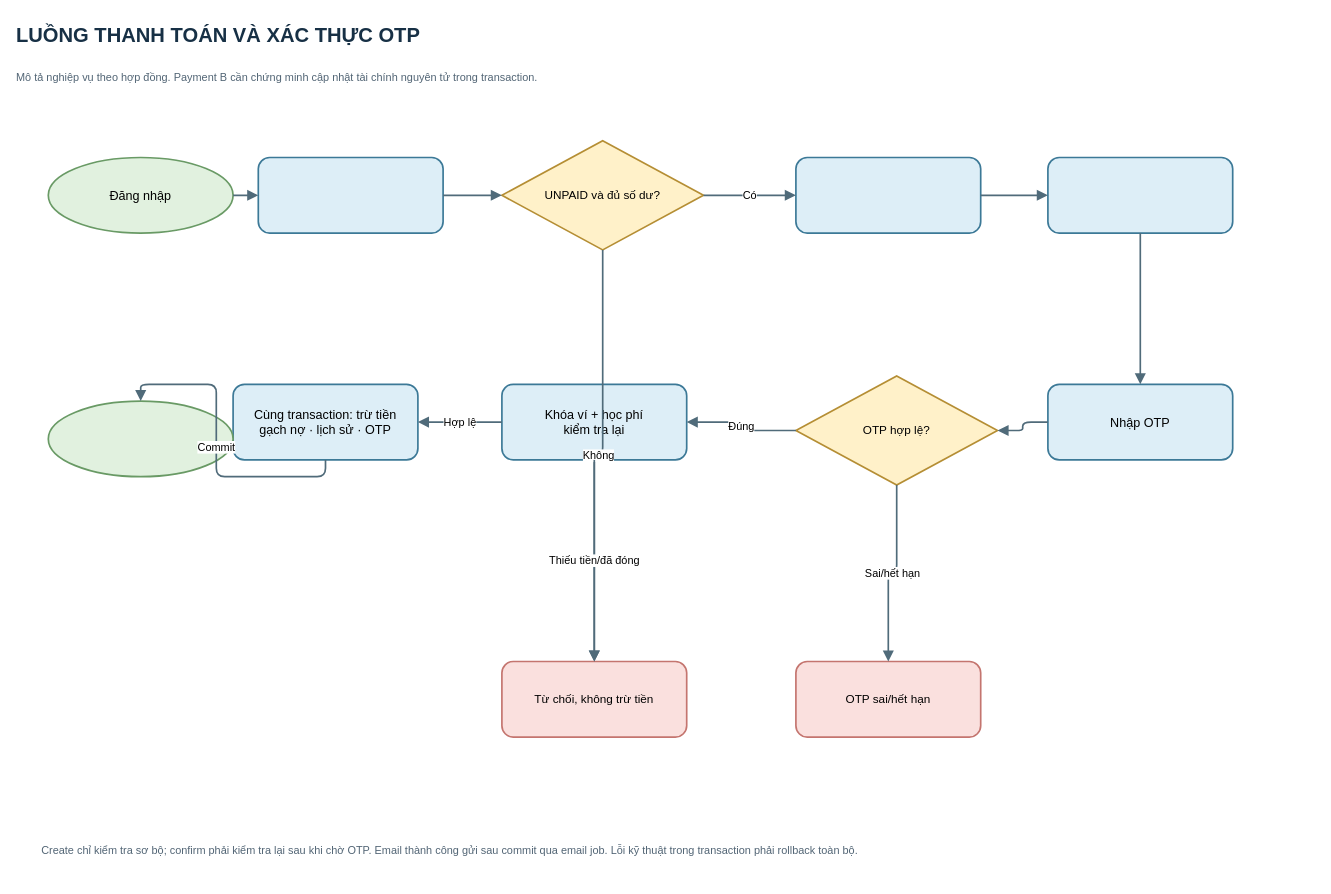
This 1331x894 diagram has some shape labels left out. The shapes that lost their labels are listed below. From the top down, each one's centre as x and y in pixels, then its label:
At point (350, 195): "Tra cứu MSSV".
At point (888, 195): "Tạo payment PENDING_OTP".
At point (1140, 195): "Gửi OTP email TTL 5 phút".
At point (140, 438): "SUCCESS + email xác nhận".
